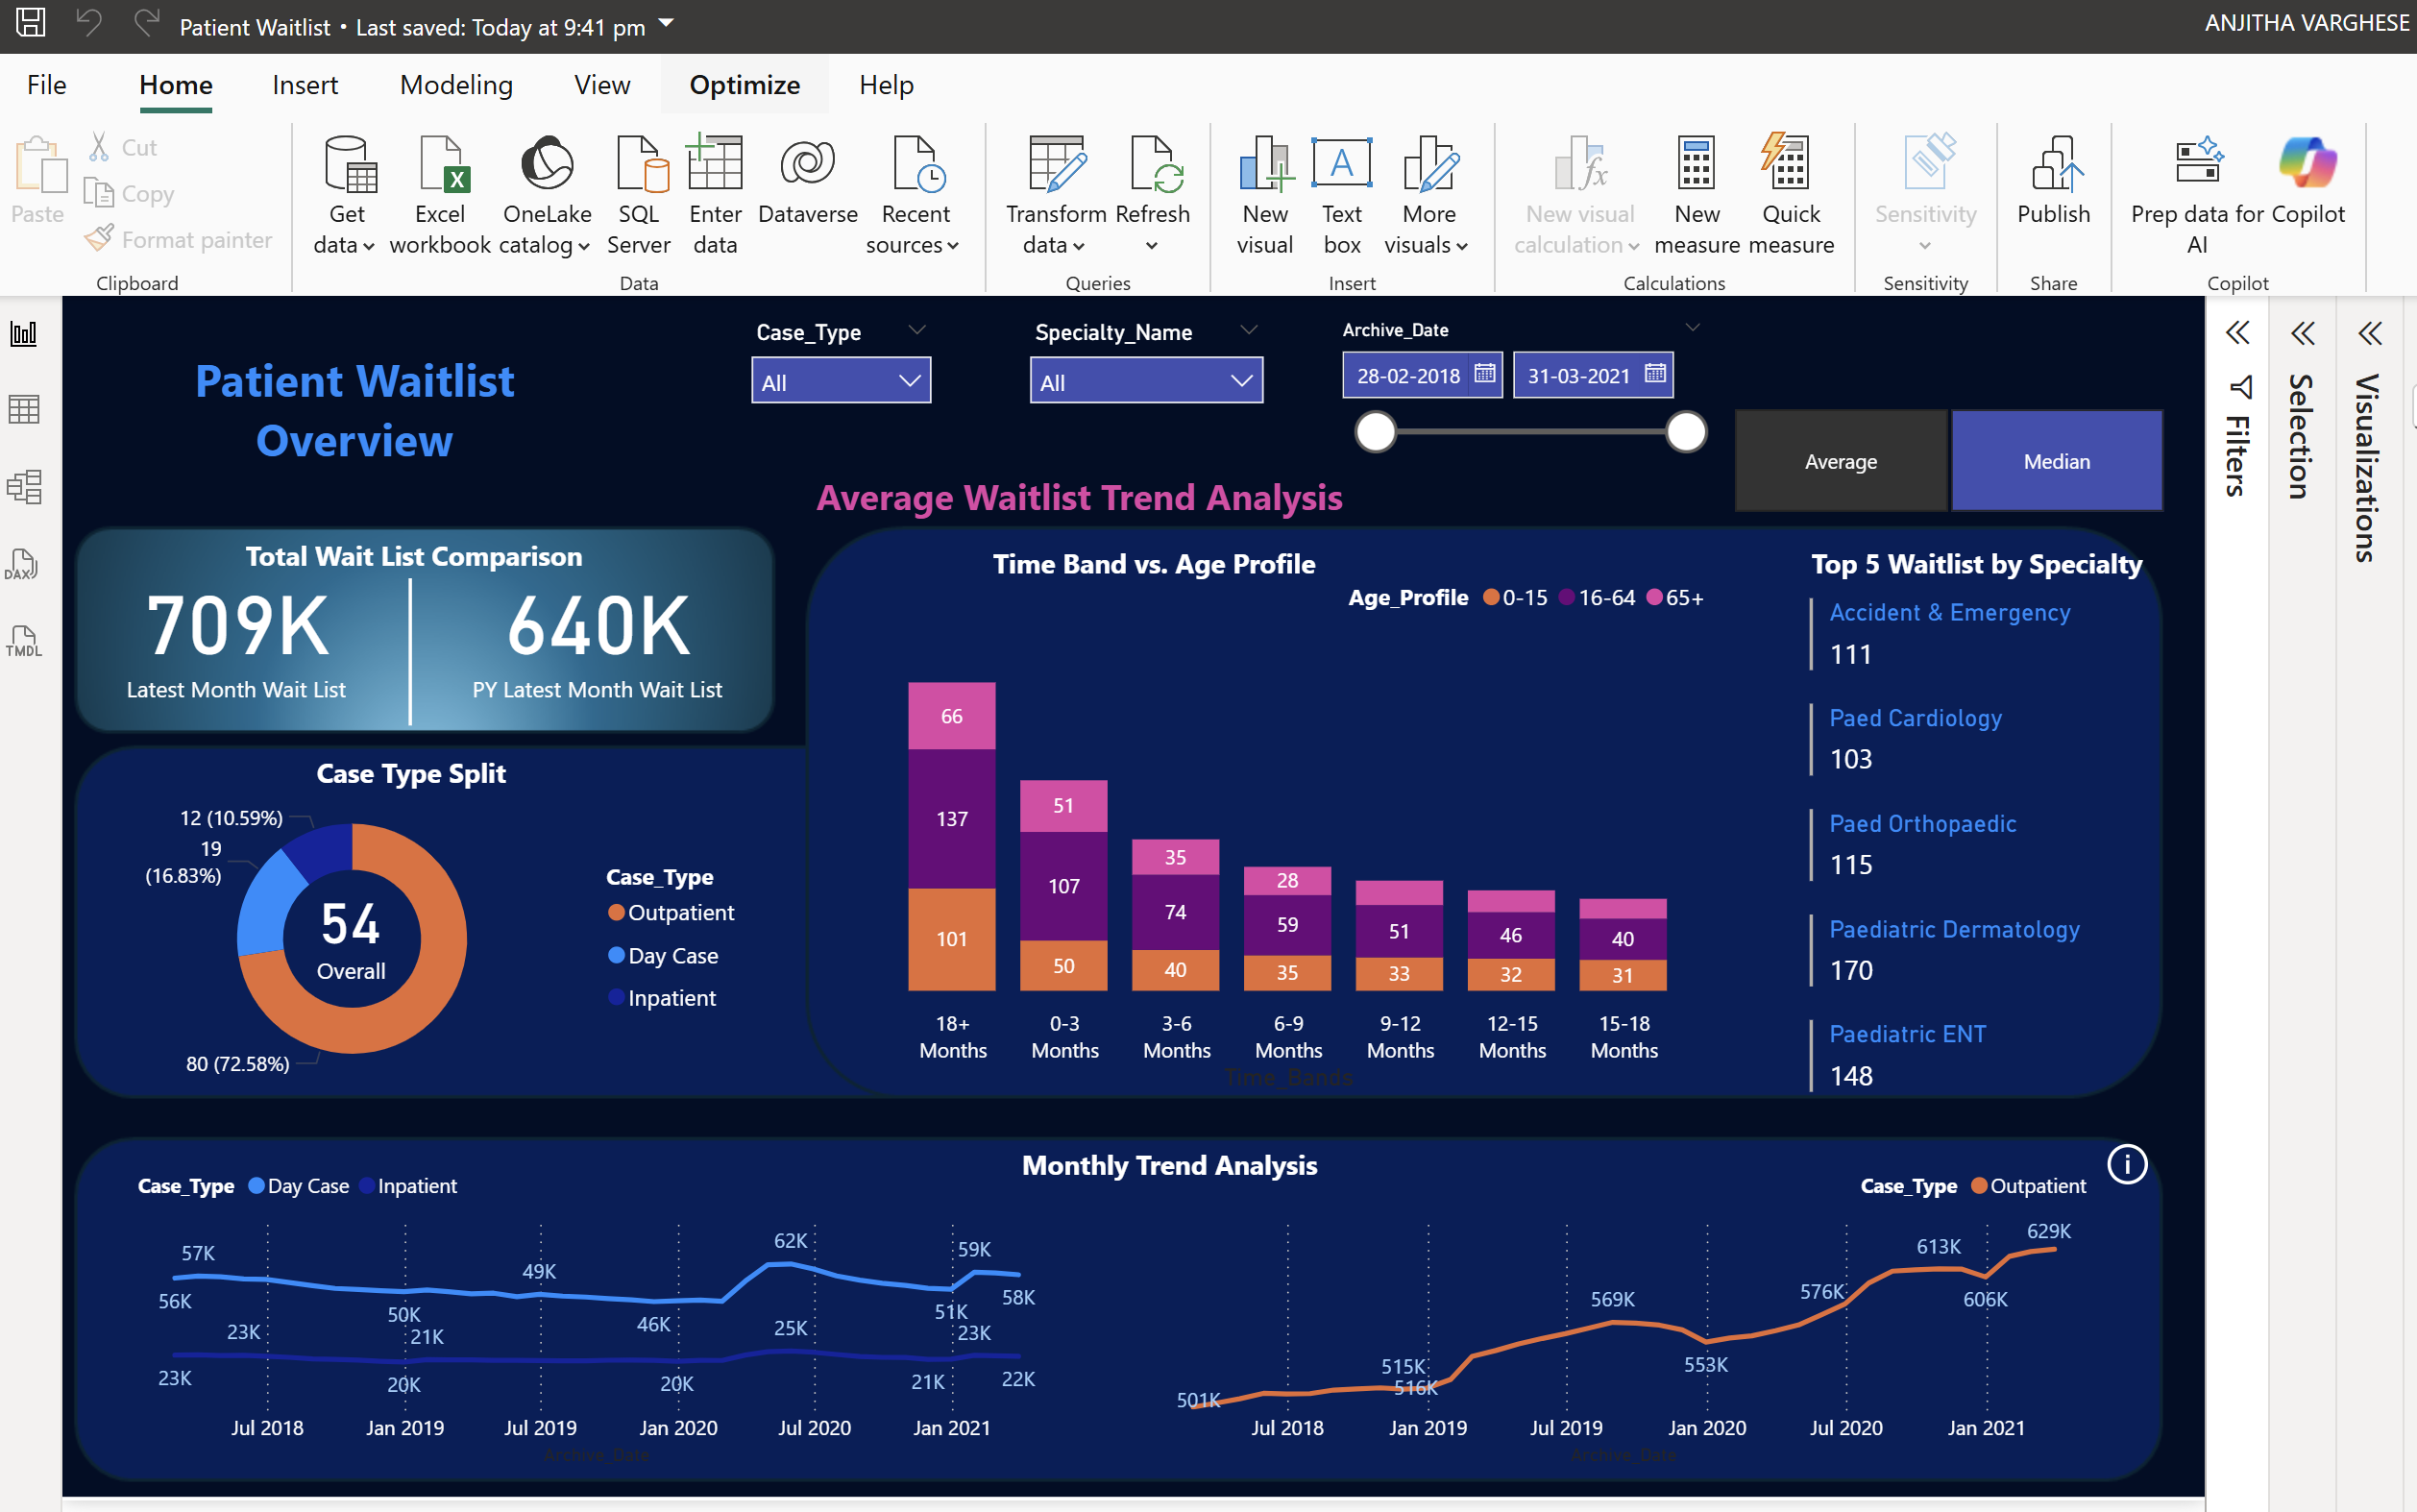

What the dashboard file says about the page in this screenshot:
{"tool":"powerbi","page":{"name":"Overview","canvas":[1280,720],"ordinal":0},"visuals":[{"type":"card","fields":{"Values":["All_Patients.Latest Month Wait List"]},"box":[0,144.1,207.8,112.2],"z":0},{"type":"card","fields":{"Values":["All_Patients.PY Latest Month Wait List"]},"box":[215.5,144.1,207.8,112.2],"z":1000},{"type":"slicer","fields":{"Values":["Calculation Method.Calc Method"]},"box":[974,61.2,306,75.2],"z":2000},{"type":"donutChart","fields":{"Category":["All_Patients.Case_Type"],"Y":["All_Patients.Avg/Med Wait List"]},"box":[16,288,400,192],"z":3000},{"type":"columnChart","fields":{"Y":["All_Patients.Avg/Med Wait List"],"Category":["All_Patients.Time_Bands"],"Series":["All_Patients.Age_Profile"]},"box":[464,160,528,320],"z":4000},{"type":"multiRowCard","fields":{"Values":["All_Patients.Specialty_Name","All_Patients.Avg/Med Wait List"]},"box":[1039,175.9,224.4,336.6],"z":5000},{"type":"multiRowCard","fields":{"Values":["All_Patients.NoDataLeft"]},"box":[160.6,596.7,289.4,96.9],"z":6000},{"type":"lineChart","fields":{"Category":["All_Patients.Archive_Date"],"Y":["Sum(All_Patients.Total)"],"Series":["All_Patients.Case_Type"]},"box":[39.6,512.5,560.1,191.5],"z":7000},{"type":"multiRowCard","fields":{"Values":["All_Patients.NoDataRight"]},"box":[818.5,596.7,289.4,96.9],"z":8000},{"type":"lineChart","fields":{"Category":["All_Patients.Archive_Date"],"Y":["Sum(All_Patients.Total)"],"Series":["All_Patients.Case_Type"]},"box":[648.6,512.5,570.7,191.5],"z":9000},{"type":"slicer","fields":{"Values":["All_Patients.Archive_Date"]},"box":[752.2,8.9,239.7,86.7],"z":10000},{"type":"slicer","fields":{"Values":["All_Patients.Case_Type"]},"box":[401.6,8.9,127.5,63.7],"z":11000},{"type":"slicer","fields":{"Values":["All_Patients.Specialty_Name"]},"box":[568.6,8.9,159.4,63.7],"z":12000},{"type":"textbox","box":[29.1,26.4,291.9,84.5],"z":13000},{"type":"multiRowCard","fields":{"Values":["All_Patients.Avg/Med Wait List"]},"box":[146.6,350.6,79,66.3],"z":14000},{"type":"shape","box":[57.4,168.3,300.9,88],"z":15000},{"type":"textbox","box":[1039.6,144,224.6,37],"z":16000},{"type":"textbox","box":[550.8,144,285.3,37],"z":17000},{"type":"textbox","box":[104.5,139,297.1,37],"z":18000},{"type":"textbox","box":[568.6,502.3,265.2,45.9],"z":19000},{"type":"textbox","box":[146.6,269,146.6,38.2],"z":20000},{"type":"multiRowCard","fields":{"Values":["All_Patients.Dynamic Title"]},"box":[444.9,99.4,391.4,49.7],"z":21000},{"type":"actionButton","box":[1216.6,502,64.7,34.3],"z":22000}]}

Visuals, with their boxes on the page's 1280x720 design canvas (x1, y1, x2, y2). These are canvas units, not pixel positions in the 2417x1512 screenshot, which may show the page scaled, cropped or inside an application window:
card - All_Patients.Latest Month Wait List: [0,144,208,256]
card - All_Patients.PY Latest Month Wait List: [216,144,423,256]
slicer - Calculation Method.Calc Method: [974,61,1280,136]
donutChart - All_Patients.Case_Type x All_Patients.Avg/Med Wait List: [16,288,416,480]
columnChart - All_Patients.Avg/Med Wait List x All_Patients.Time_Bands: [464,160,992,480]
multiRowCard - All_Patients.Specialty_Name x All_Patients.Avg/Med Wait List: [1039,176,1263,512]
multiRowCard - All_Patients.NoDataLeft: [161,597,450,694]
lineChart - All_Patients.Archive_Date x Sum(All_Patients.Total): [40,512,600,704]
multiRowCard - All_Patients.NoDataRight: [818,597,1108,694]
lineChart - All_Patients.Archive_Date x Sum(All_Patients.Total): [649,512,1219,704]
slicer - All_Patients.Archive_Date: [752,9,992,96]
slicer - All_Patients.Case_Type: [402,9,529,73]
slicer - All_Patients.Specialty_Name: [569,9,728,73]
textbox: [29,26,321,111]
multiRowCard - All_Patients.Avg/Med Wait List: [147,351,226,417]
shape: [57,168,358,256]
textbox: [1040,144,1264,181]
textbox: [551,144,836,181]
textbox: [104,139,402,176]
textbox: [569,502,834,548]
textbox: [147,269,293,307]
multiRowCard - All_Patients.Dynamic Title: [445,99,836,149]
actionButton: [1217,502,1281,536]
